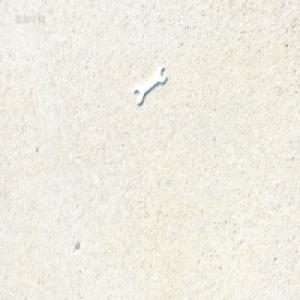Wrench: (134, 67, 167, 106)
